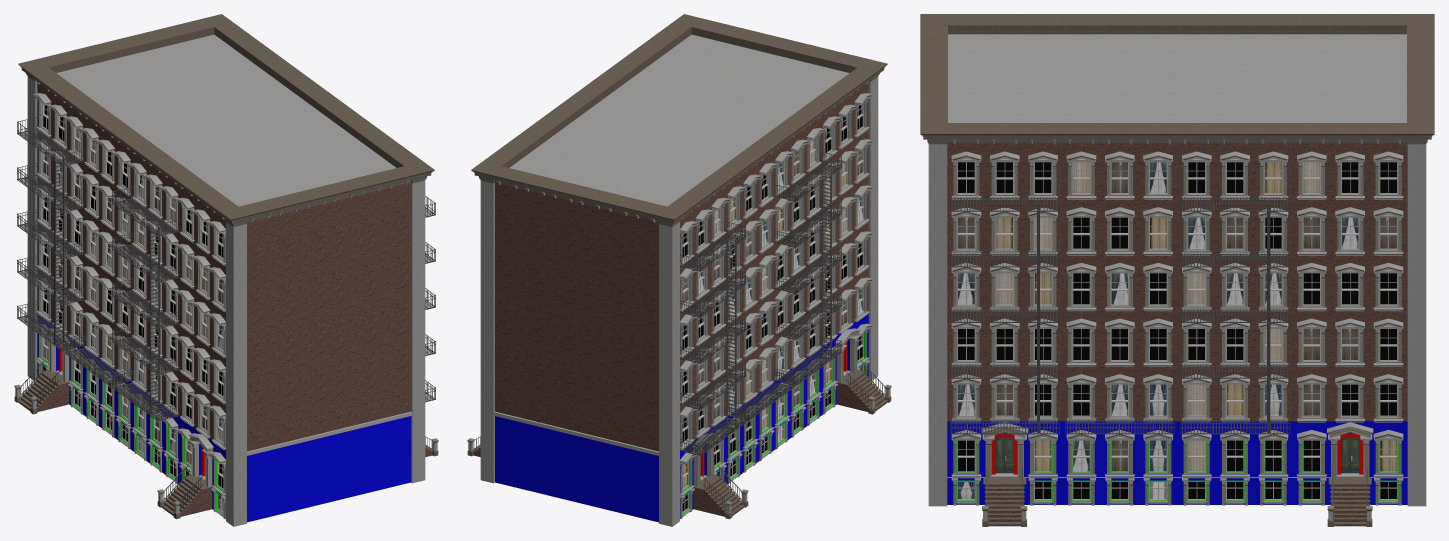
The model's file is Building02_B.fbx.
The picture shows the model from 3 angles, left to right: view 1: azimuth 30°, elevation 25°; view 2: azimuth 150°, elevation 25°; view 3: azimuth 270°, elevation 25°; orthographic projection. The views are drawn at different scales.
Visible parts, largest first — view 1: Building02_B; view 2: Building02_B; view 3: Building02_B.
Part boxes in pixels (<box>): Building02_B: <box>14,14,438,526</box>; Building02_B: <box>467,14,891,526</box>; Building02_B: <box>920,14,1434,526</box>.
Bounding box in the file's own units: 2383 × 2700 × 3350.
